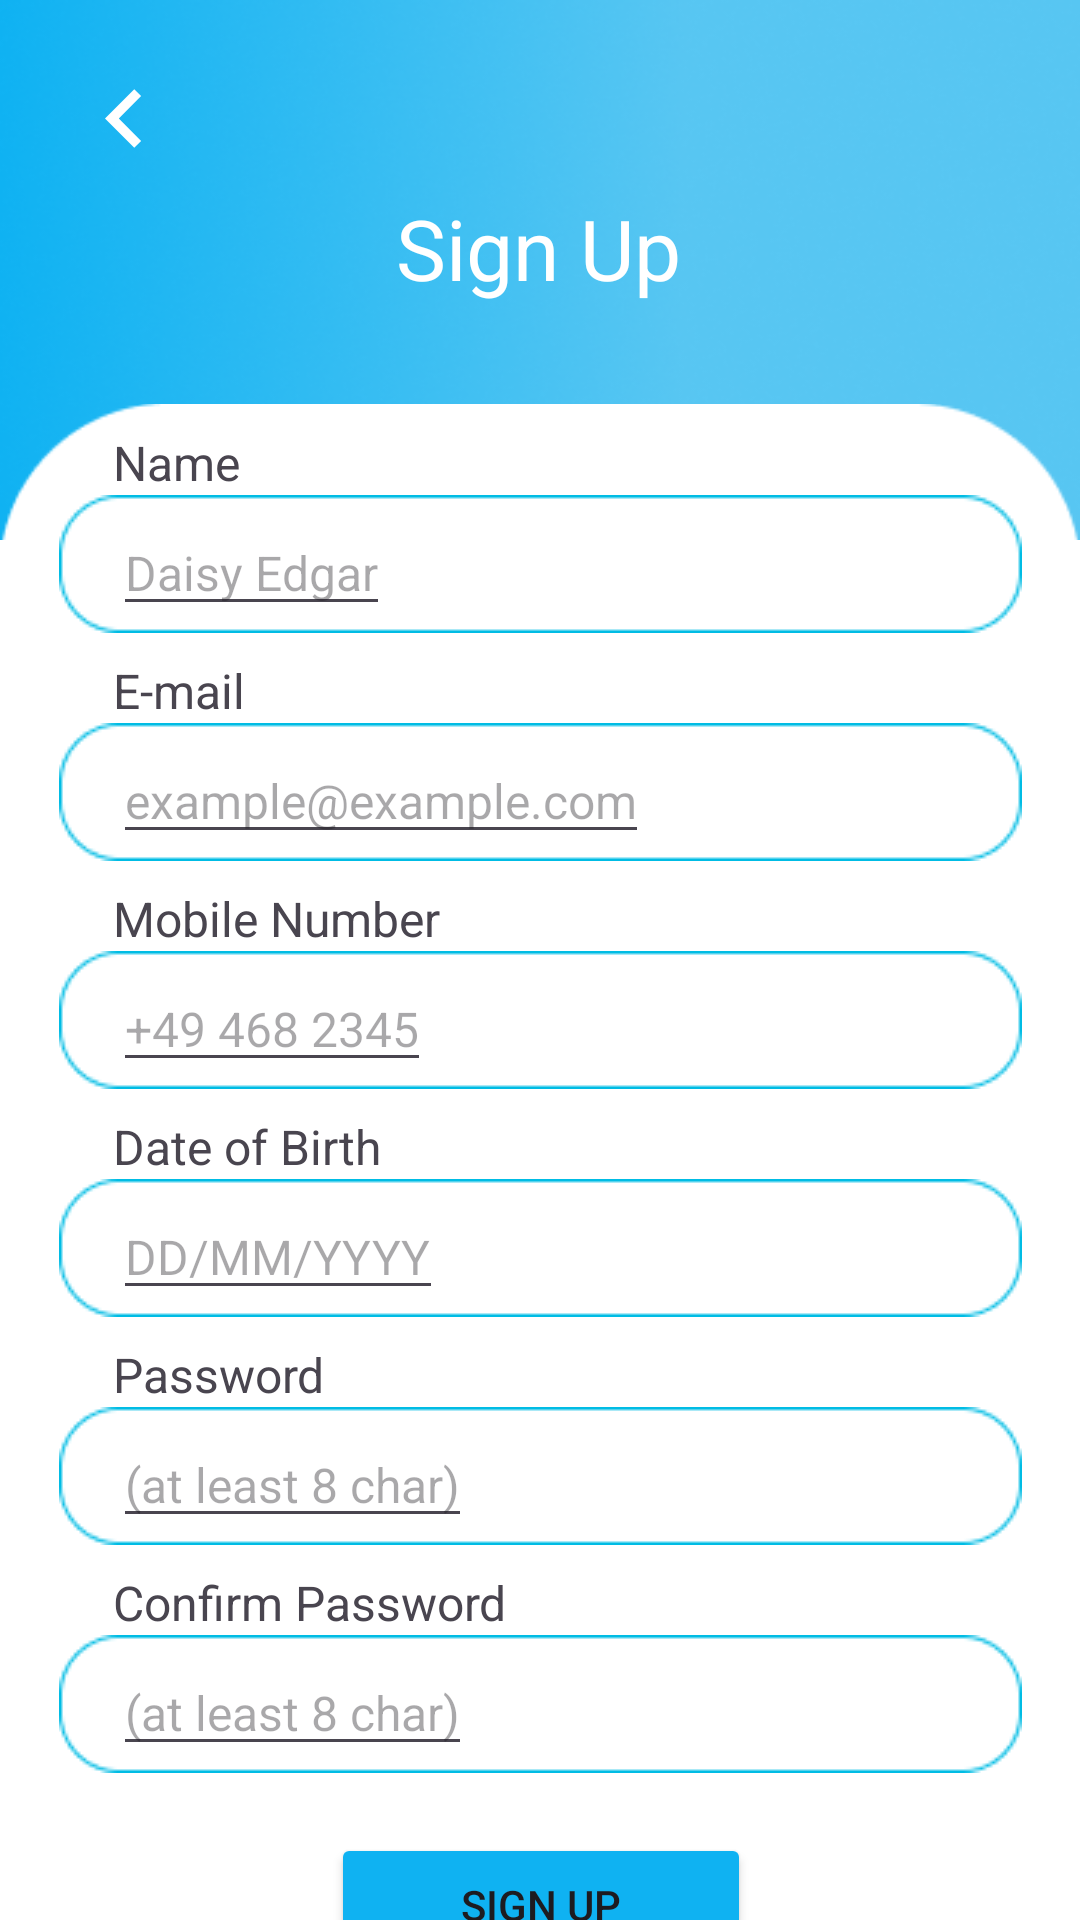

Icon click points for this 1080 x 1920 phone screenshot, format point (x, y):
chevron left: point (123, 118)
